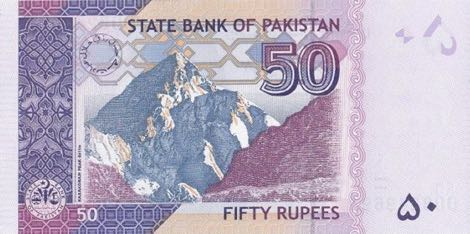50 rupee: (8, 3, 461, 231)
